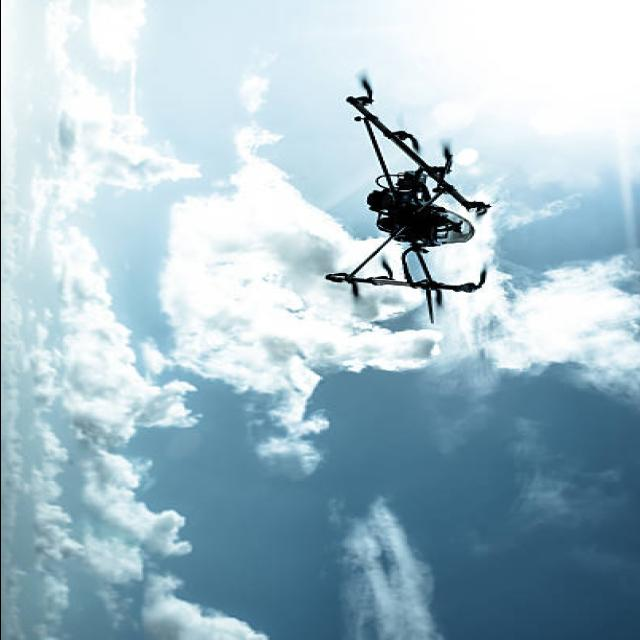drone: (324, 76, 494, 324)
